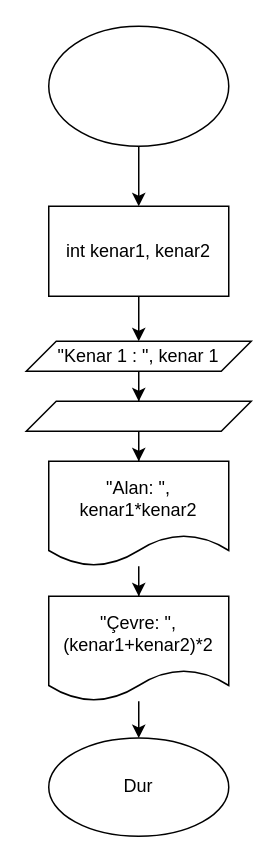
Some shapes in this 278 by 863 pixel diagram are drawn without their labels. The centre of each missing label's shape, as x and y in pixels:
"Kenar 2 : ", kenar 2: (138,415)
Başla: (138,85)
